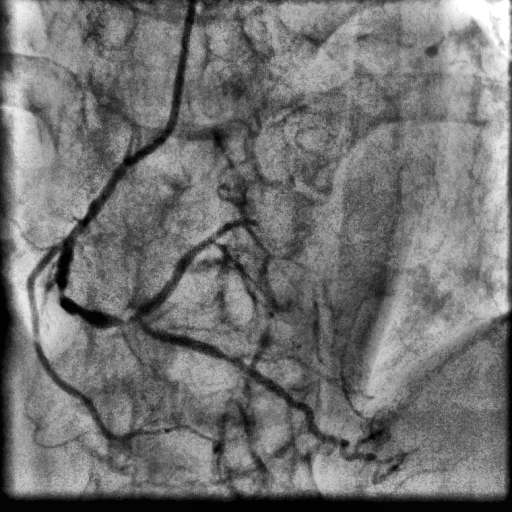pborca: (136, 218, 258, 317)
pda: (137, 318, 407, 486)
rca: (56, 132, 167, 329)
